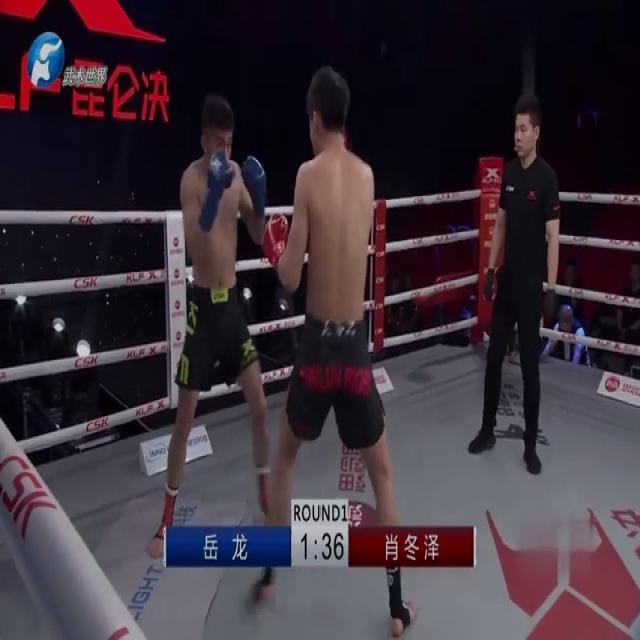fight: (156, 61, 412, 639)
non-fight: (474, 82, 562, 474)
